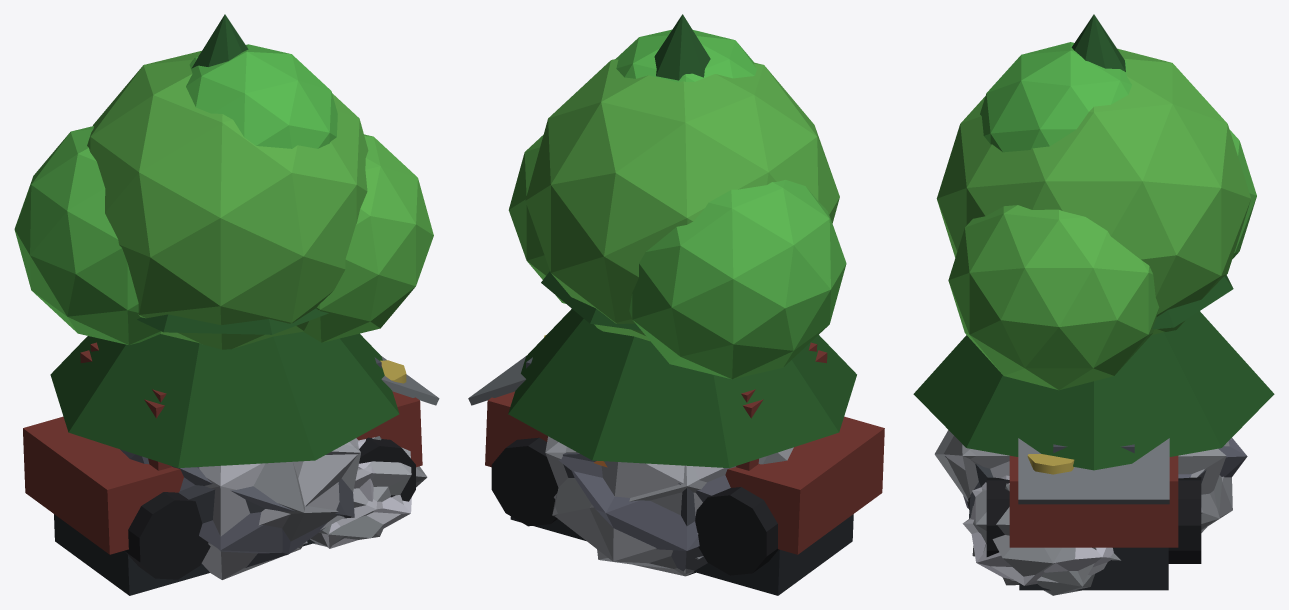
Rendered from nodes.glb.
The picture shows the model from 3 angles, left to right: view 1: azimuth 30°, elevation 25°; view 2: azimuth 150°, elevation 25°; view 3: azimuth 270°, elevation 25°; orthographic projection.
Visible parts, largest first — view 1: ready- (×13), always-; view 2: ready- (×11), always-; view 3: ready- (×11), always-.
Boxes of the visible parts, <box> form: ready- (×13): <box>14,14,439,579</box>; always-: <box>23,342,422,595</box>; ready- (×11): <box>468,14,856,576</box>; always-: <box>485,342,884,595</box>; ready- (×11): <box>913,14,1274,595</box>; always-: <box>1009,455,1178,590</box>.
Size of the model in its own units: 3.45 by 5.11 by 3.1.
